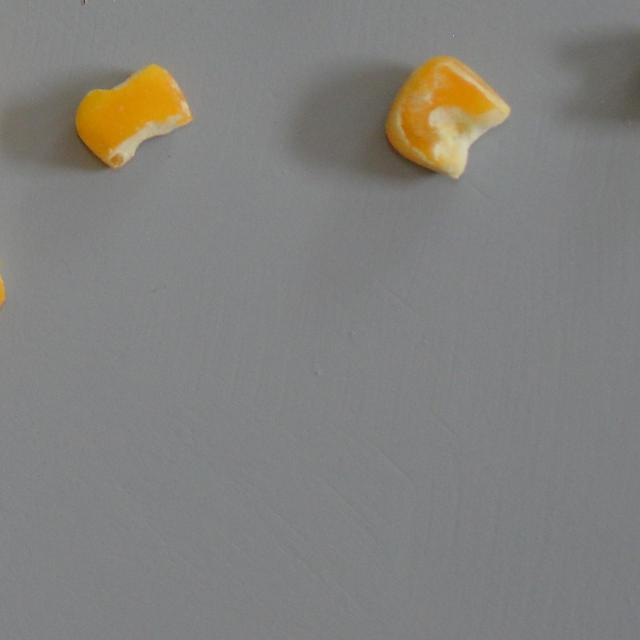dañado: (380, 48, 512, 190), (68, 60, 196, 176), (0, 224, 13, 344)
